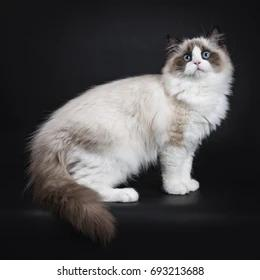ragdoll: (163, 21, 234, 98)
